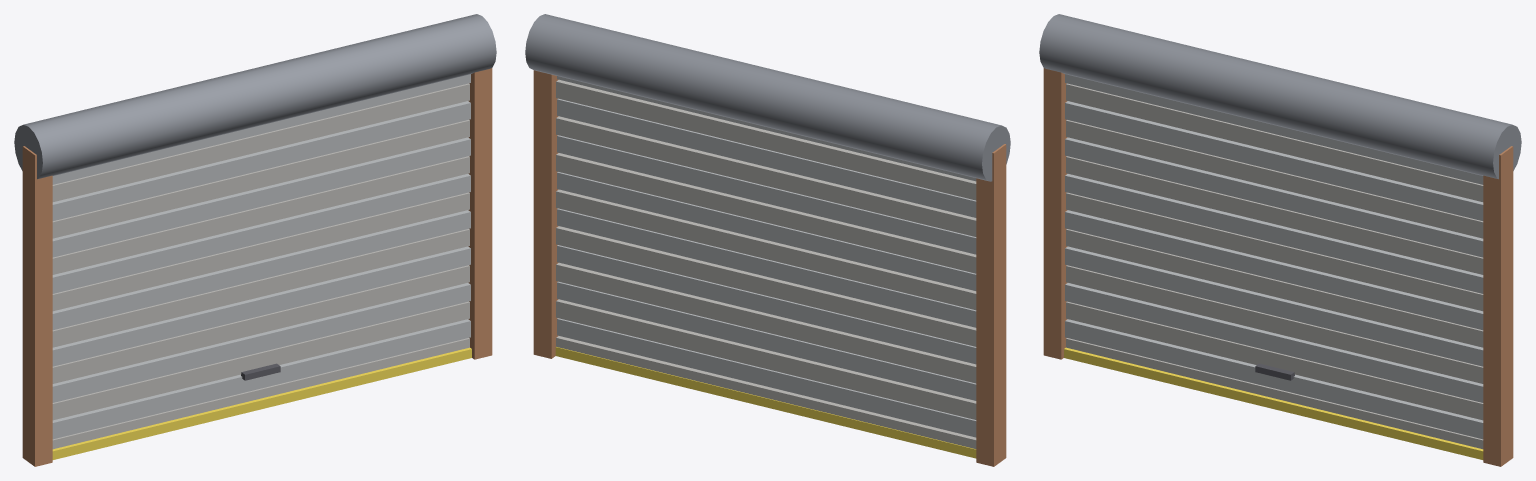
File: rs_garage_shutter.glb
3 renders of one model, left to right at view 1: azimuth 30°, elevation 25°; view 2: azimuth 150°, elevation 25°; view 3: azimuth 330°, elevation 25°, orthographic.
Visible parts, largest first — view 1: rs_garage_shutter; view 2: rs_garage_shutter; view 3: rs_garage_shutter.
Part boxes in pixels (x1,y1,x2,y2): rs_garage_shutter: (14, 14, 496, 466); rs_garage_shutter: (525, 14, 1010, 466); rs_garage_shutter: (1039, 14, 1521, 466).
Bounding box in the file's own units: 6.45 × 4.5 × 0.7.
